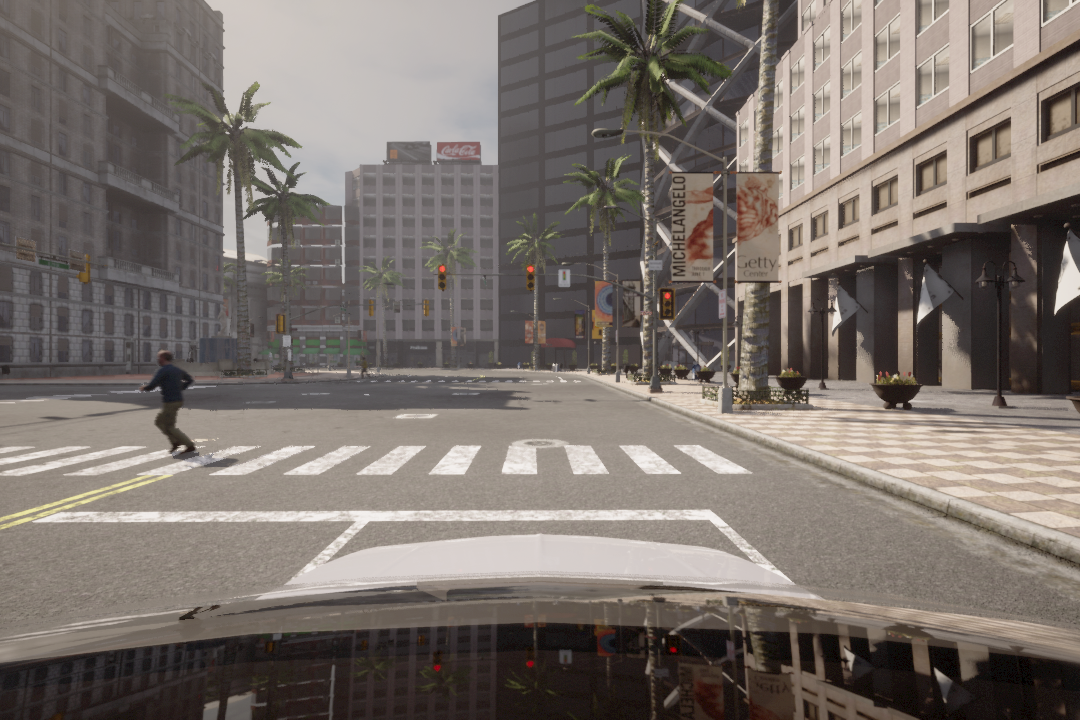TrafficLight: (523, 264, 538, 293), (660, 288, 674, 317), (435, 263, 448, 291)
walkside: (1, 443, 781, 481)
